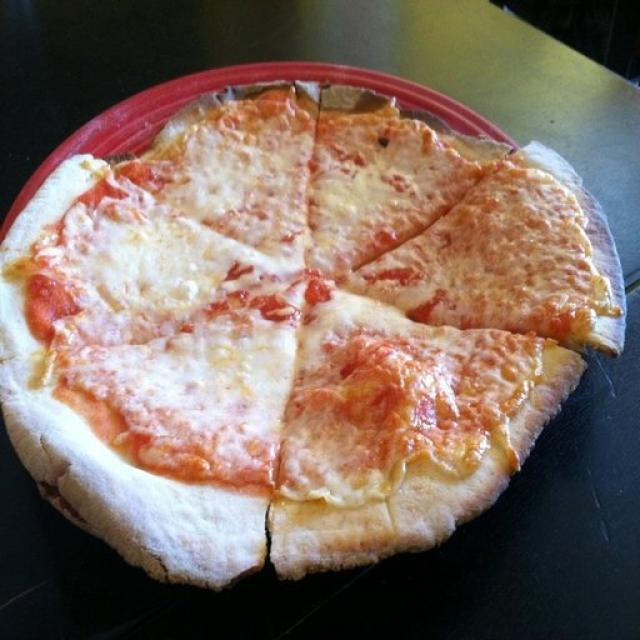Pizza: (0, 82, 624, 586)
